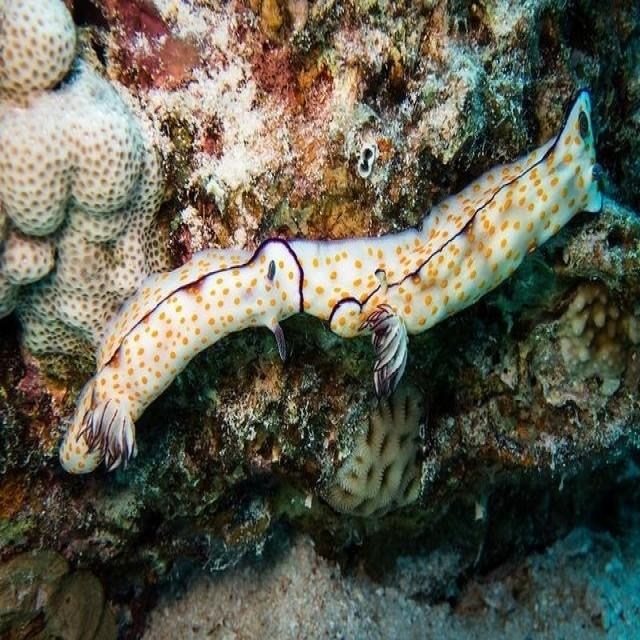reefs: (58, 87, 603, 476), (0, 1, 172, 360), (326, 384, 425, 518), (561, 275, 639, 397)
